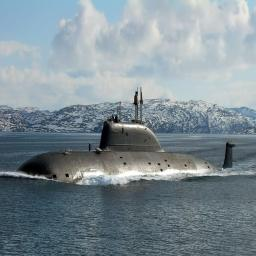submarine: (14, 85, 237, 189)
